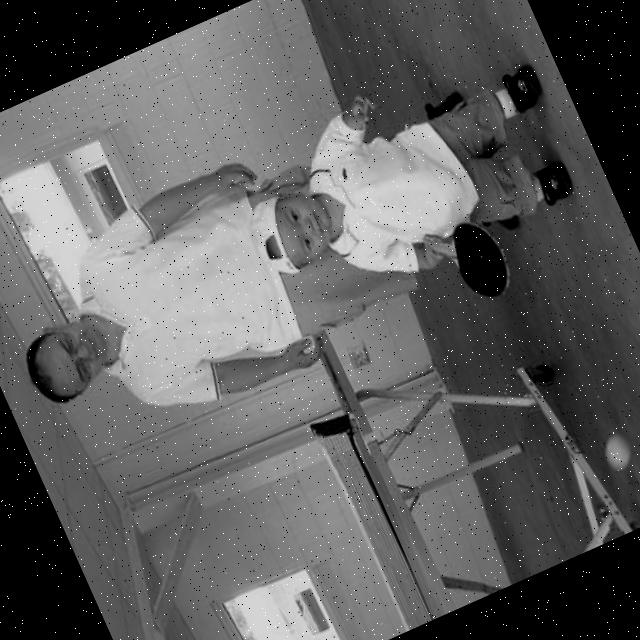ping-pong-ball: (596, 431, 636, 475)
